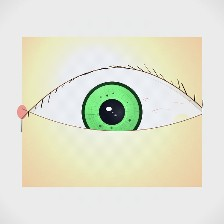pinguecula_lesion: (166, 108, 198, 133)
